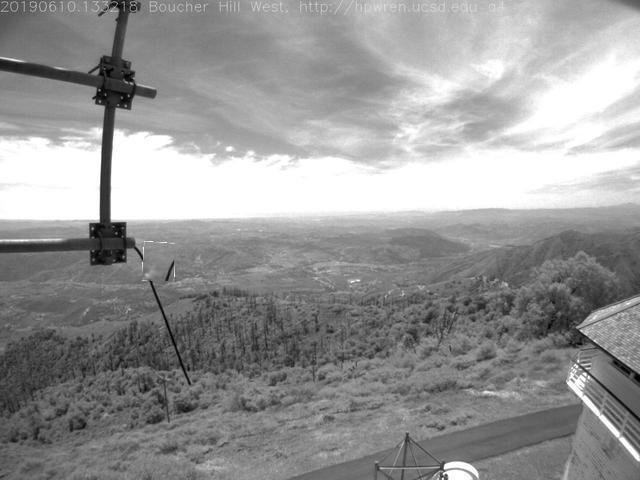smoke: (144, 243, 177, 283)
